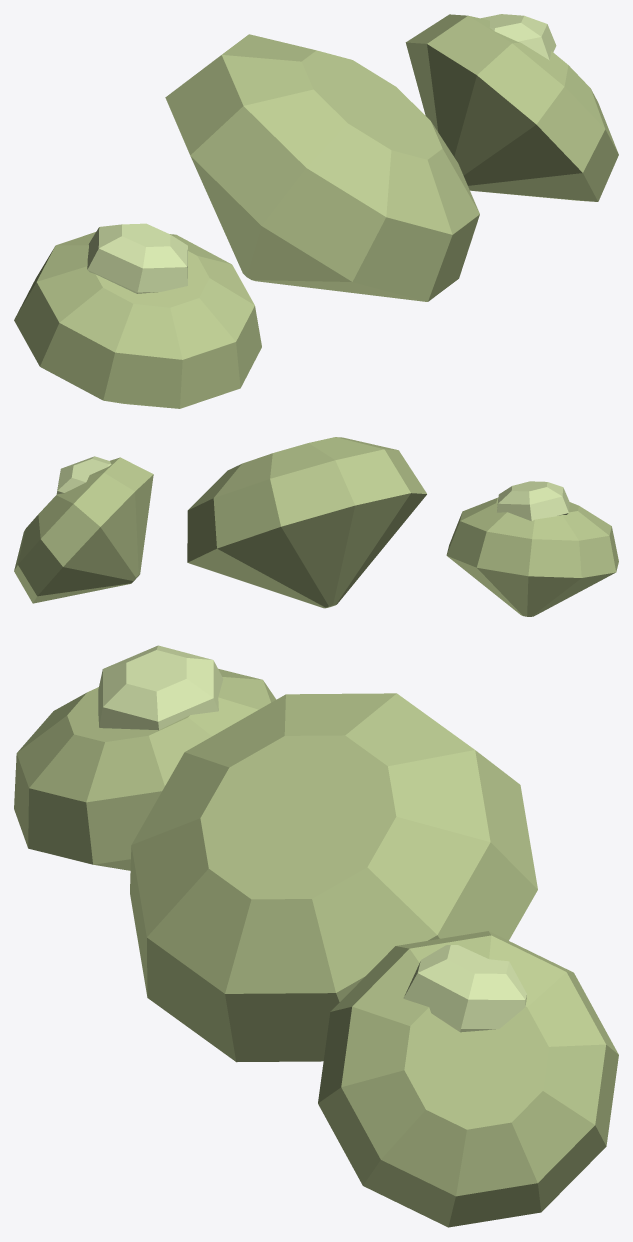
3 renders of one model, top to bottom at view 1: azimuth 30°, elevation 25°; view 2: azimuth 150°, elevation 25°; view 3: azimuth 270°, elevation 25°, orthographic. The views are drawn at different scales.
Visible parts, largest first — view 1: TI034 / individually faceted stone 1, TI034 / individually faceted stone 0, TI034 / individually faceted stone 2, TI034 / inclusion colour facet, TI034 / inclusion colour facet.002; view 2: TI034 / individually faceted stone 1, TI034 / individually faceted stone 2, TI034 / individually faceted stone 0, TI034 / inclusion colour facet, TI034 / inclusion colour facet.002; view 3: TI034 / individually faceted stone 1, TI034 / individually faceted stone 2, TI034 / individually faceted stone 0, TI034 / inclusion colour facet, TI034 / inclusion colour facet.002.
Part boxes in pixels (<box>): TI034 / individually faceted stone 1: <box>165,34,479,301</box>; TI034 / individually faceted stone 0: <box>14,232,261,408</box>; TI034 / individually faceted stone 2: <box>405,14,618,201</box>; TI034 / inclusion colour facet: <box>87,223,187,293</box>; TI034 / inclusion colour facet.002: <box>481,14,556,60</box>; TI034 / individually faceted stone 1: <box>187,437,426,608</box>; TI034 / individually faceted stone 2: <box>14,457,153,603</box>; TI034 / individually faceted stone 0: <box>446,497,618,616</box>; TI034 / inclusion colour facet: <box>497,481,569,521</box>; TI034 / inclusion colour facet.002: <box>56,456,111,494</box>; TI034 / individually faceted stone 1: <box>130,693,537,1062</box>; TI034 / individually faceted stone 2: <box>318,931,618,1227</box>; TI034 / individually faceted stone 0: <box>14,668,276,870</box>; TI034 / inclusion colour facet: <box>98,645,223,730</box>; TI034 / inclusion colour facet.002: <box>403,945,526,1032</box>.
Size of the model in its own units: 2.54 by 0.8889 by 1.57.
